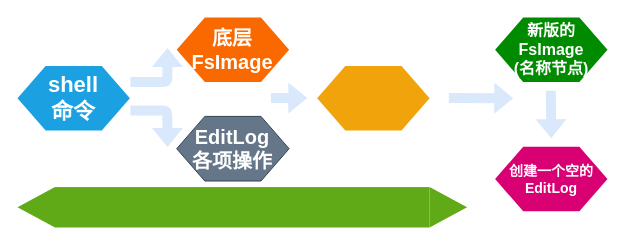
Some shapes in this 624 by 244 pixel diagram are drawn without their labels. The shapes that lost their labels are listed below. From the top down, each one's centre as x and y in pixels, then its label:
pixel 373 98: 最新的 元数据
pixel 241 207: EditLog会不断增大
